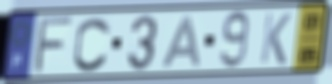3: (124, 14, 159, 73)
9: (216, 9, 251, 72)
A: (159, 14, 202, 70)
C: (71, 15, 113, 74)
F: (31, 15, 78, 76)
K: (258, 11, 294, 67)
